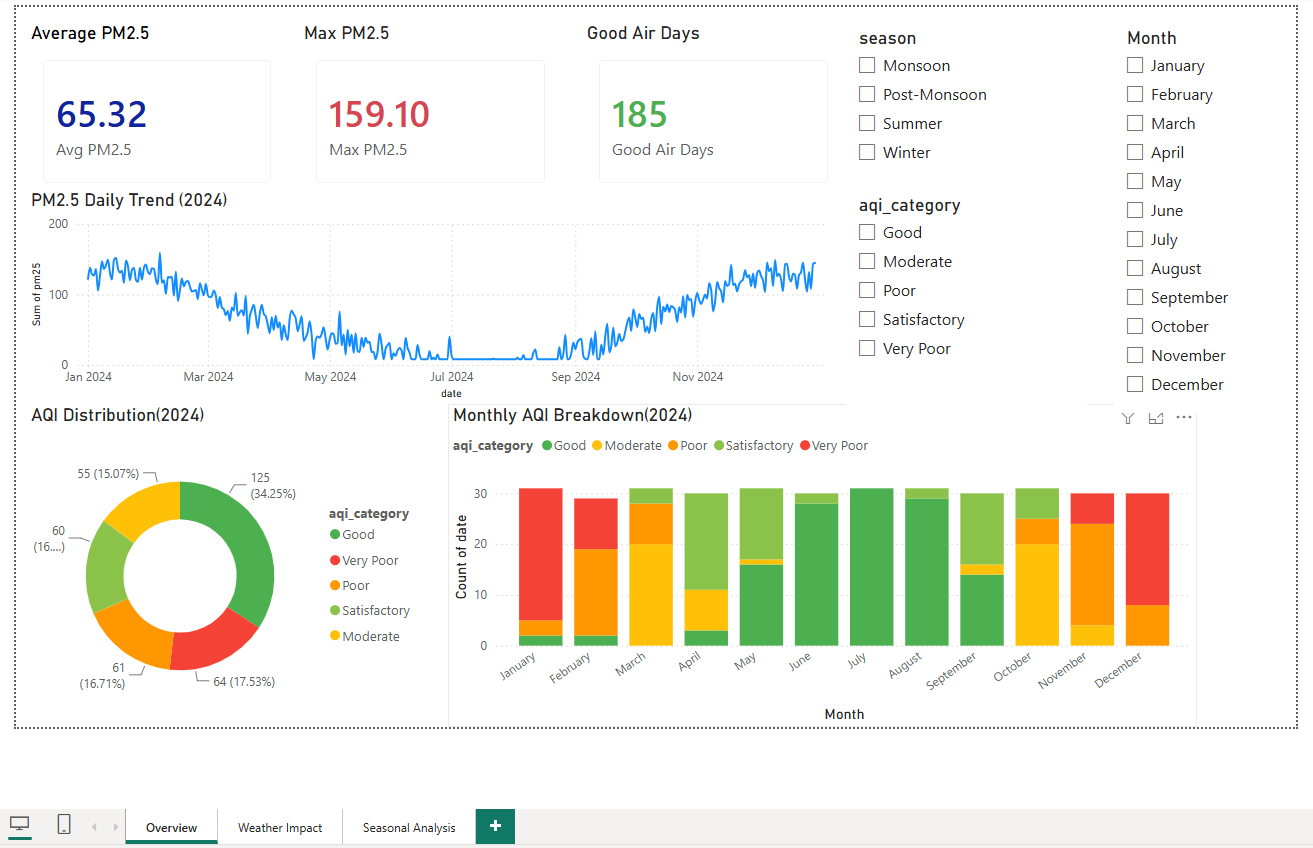

The dashboard page shown, as its layout file describes it:
{"tool":"powerbi","page":{"name":"Overview","canvas":[1280,720],"ordinal":0},"visuals":[{"type":"cardVisual","title":"Average PM2.5","fields":{"Data":["daily_dashboard.Avg PM2.5"]},"box":[10.1,14.7,261.5,178],"z":0},{"type":"cardVisual","title":"Max PM2.5","fields":{"Data":["daily_dashboard.Max PM2.5"]},"box":[283.5,14.7,262.4,178],"z":1000},{"type":"cardVisual","title":" Good Air Days","fields":{"Data":["daily_dashboard.Good Air Days"]},"box":[566.1,14.7,263.3,178],"z":2000},{"type":"lineChart","title":"PM2.5 Daily Trend (2024)","fields":{"Category":["daily_dashboard.date"],"Y":["Sum(daily_dashboard.pm25)"]},"box":[9.7,181.9,819.9,215],"z":3000},{"type":"donutChart","title":" AQI Distribution(2024)","fields":{"Category":["daily_dashboard.aqi_category"],"Y":["CountNonNull(daily_dashboard.date)"]},"box":[10.1,397.2,404.6,322.9],"z":4000},{"type":"columnChart","title":"Monthly AQI Breakdown(2024)","fields":{"Y":["Count(daily_dashboard.date)"],"Series":["daily_dashboard.aqi_category"],"Category":["daily_dashboard.month.Variation.Date Hierarchy.Month"]},"box":[432.1,397.2,748.6,322.9],"z":5000},{"type":"slicer","fields":{"Values":["daily_dashboard.date.Variation.Date Hierarchy.Month"]},"box":[1098.1,14.6,164.4,391],"z":6000},{"type":"slicer","fields":{"Values":["daily_dashboard.season"]},"box":[829.7,14.6,240.2,167.3],"z":6001},{"type":"slicer","fields":{"Values":["daily_dashboard.aqi_category"]},"box":[830,182,241,216],"z":6002}]}

Visuals, with their boxes on the page's 1280x720 design canvas (x1, y1, x2, y2). These are canvas units, not pixel positions in the 1313x848 screenshot, which may show the page scaled, cropped or inside an application window:
"Average PM2.5" cardVisual: 10,15,272,193
"Max PM2.5" cardVisual: 284,15,546,193
" Good Air Days" cardVisual: 566,15,829,193
"PM2.5 Daily Trend (2024)" lineChart: 10,182,830,397
" AQI Distribution(2024)" donutChart: 10,397,415,720
"Monthly AQI Breakdown(2024)" columnChart: 432,397,1181,720
slicer - daily_dashboard.date.Variation.Date Hierarchy.Month: 1098,15,1262,406
slicer - daily_dashboard.season: 830,15,1070,182
slicer - daily_dashboard.aqi_category: 830,182,1071,398
